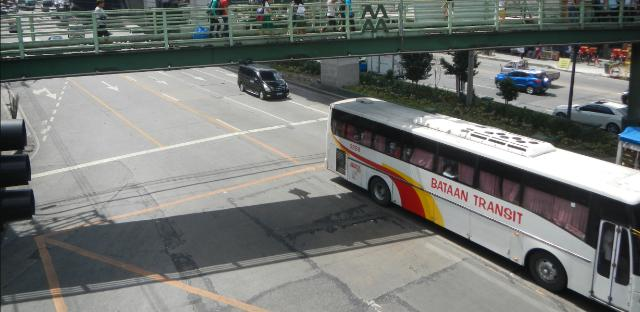bus: (324, 94, 636, 302)
car: (552, 101, 632, 133), (237, 63, 290, 101), (495, 70, 552, 94)
truck: (500, 57, 560, 88)
